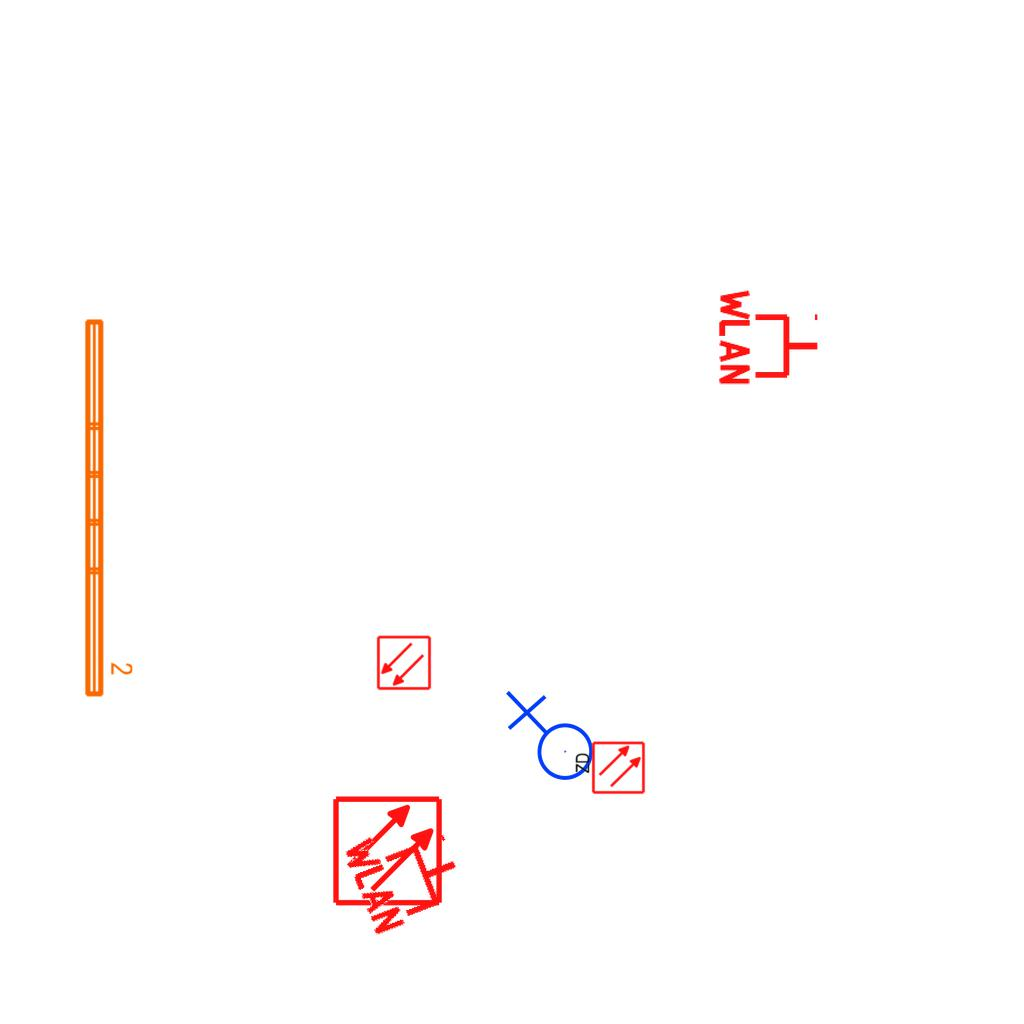Ambulanz_Pendelleuchte_LED: (79, 314, 135, 701)
Elektroanschluss_allgemein_230V_Geraeteanschlussdose_230V: (501, 690, 595, 789)
RMO_Rauchmelder_optischer: (331, 794, 444, 907), (376, 635, 432, 691)
WLAN: (338, 805, 475, 941), (717, 285, 822, 389)
ZD_Melder_in_Zwischendecke_mit_Revisionsoeffnung_mind_40_x_40_cm: (572, 740, 646, 797)
